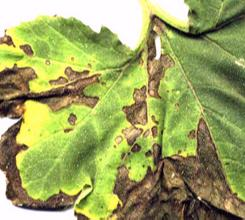Tomato leaf bacterial spot: (0, 15, 245, 220)
